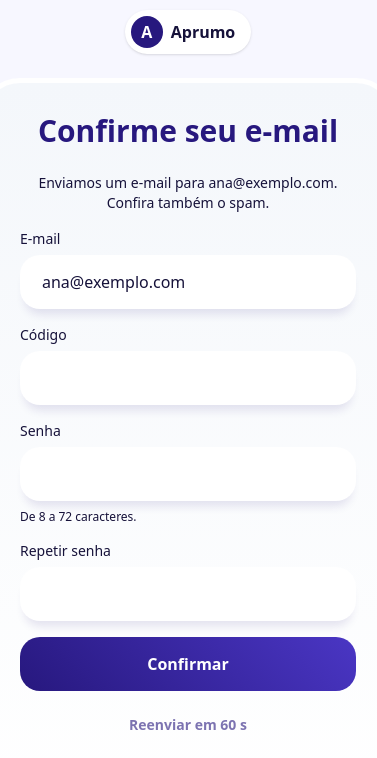
Scenario: ConfirmarPage com código › senha_curta_avisa_sem_chamar_a_api
The image size is (377, 758).
Type "123456" into the field labelled "Código". click: coordinates (188, 378)
box: top-left (20, 351), bottom-right (356, 405)
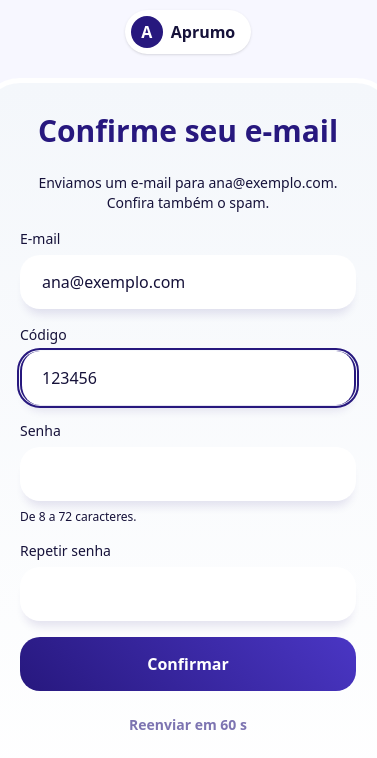
Type "curta" into the password field labelled "Senha". click: coordinates (188, 474)
box: top-left (20, 447), bottom-right (356, 501)
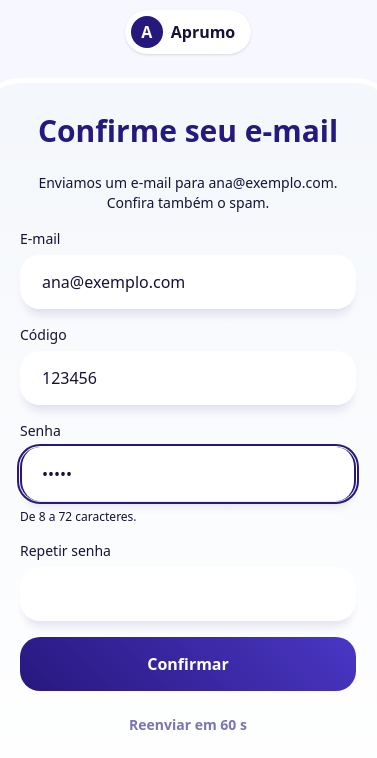
Type "curta" into the password field labelled "Repetir senha". click: coordinates (188, 594)
box: top-left (20, 567), bottom-right (356, 621)
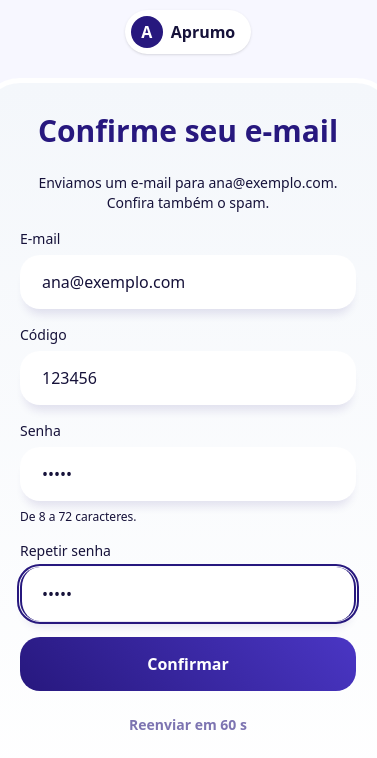
Click the button "Confirmar". click: coordinates (188, 664)
box: top-left (20, 637), bottom-right (356, 691)
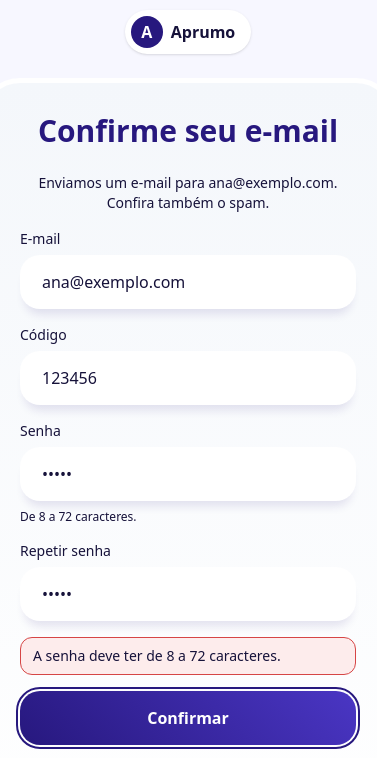
Expected: the message reads "A senha deve ter de 8 a 72 caracteres.", top-left (33, 646), bottom-right (281, 665)
